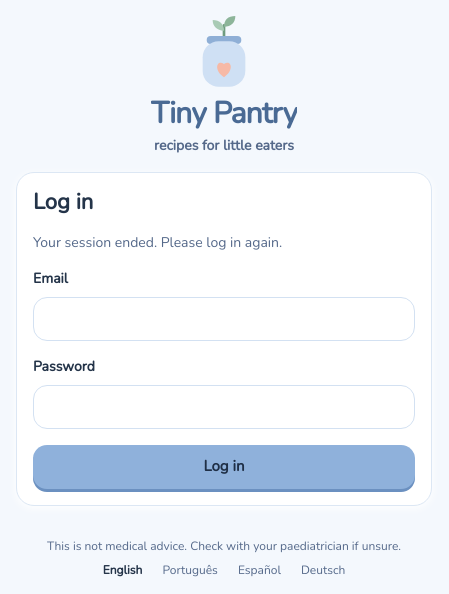
the session-ended notice changes language with the page
The width and height of the screenshot is (449, 594).
Expected: the text "Your session ended. Please log in again." is shown, [33, 232, 282, 252]
Click the button "Español" at (259, 570), box [234, 562, 285, 578]
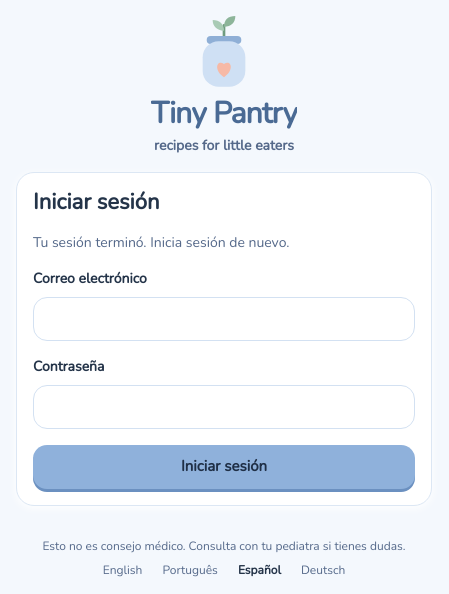
Now the text "Tu sesión terminó. Inicia sesión de nuevo." is shown, box [33, 232, 289, 252]
